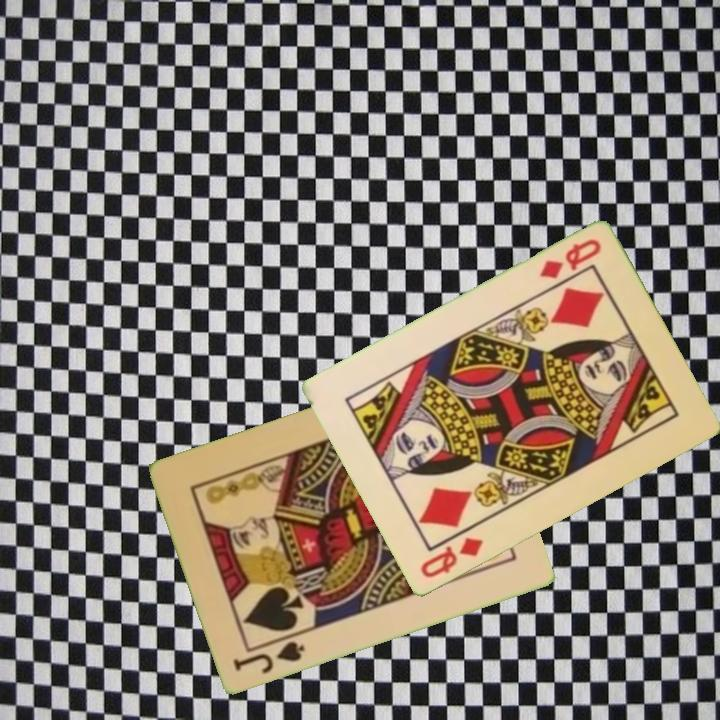Js: (229, 630, 308, 676)
Qd: (416, 534, 486, 582), (536, 236, 604, 283)
